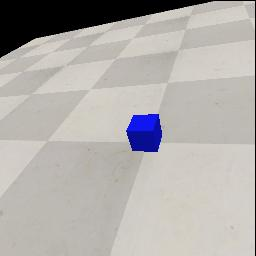box: (126, 114, 162, 152)
